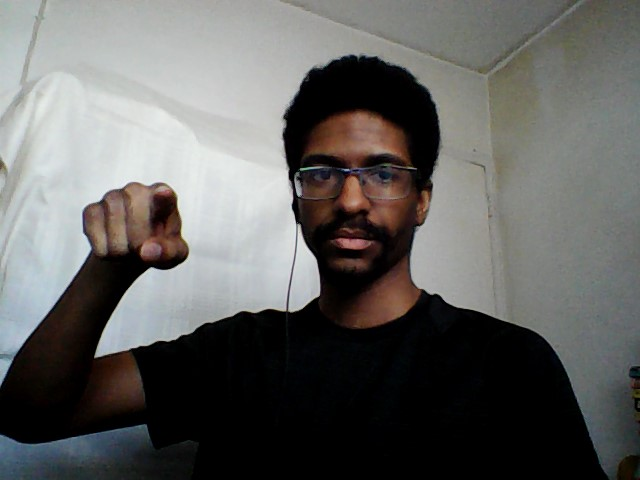z: (77, 177, 195, 273)
